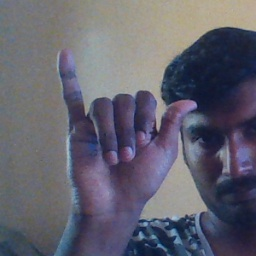J: (56, 47, 198, 215)
